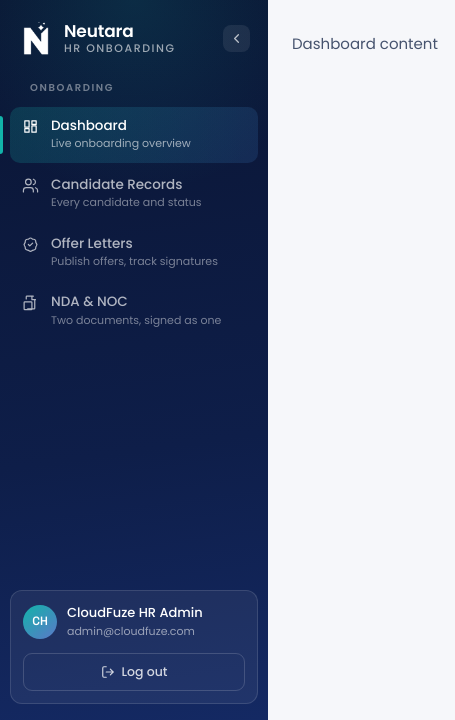
HrLayout sidebar › collapses to an icon rail, keeping the links reachable by title
Click the button named "Collapse navigation": coordinates (236, 38) top-left (223, 24), bottom-right (250, 52)
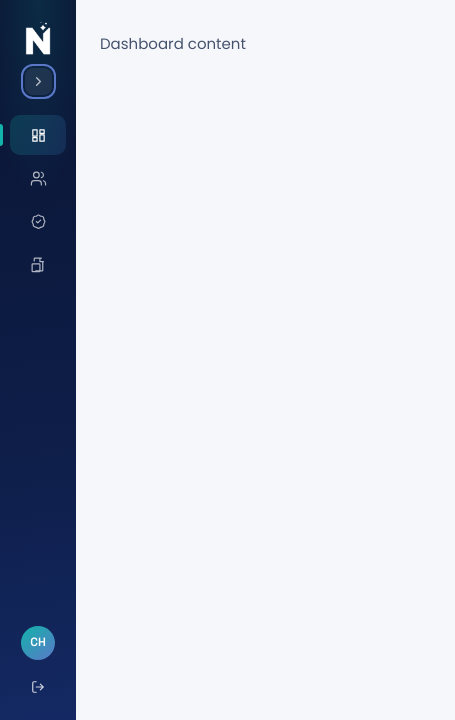
Expected: the link titled "Candidate Records" is shown, top-left (30, 170), bottom-right (46, 187)
Now the text "Publish offers, track signatures" is gone
Now the button named "Expand navigation" is shown, box top-left (24, 68), bottom-right (52, 95)
